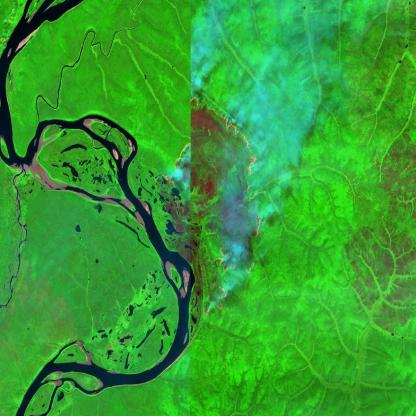fire: (173, 90, 262, 317)
